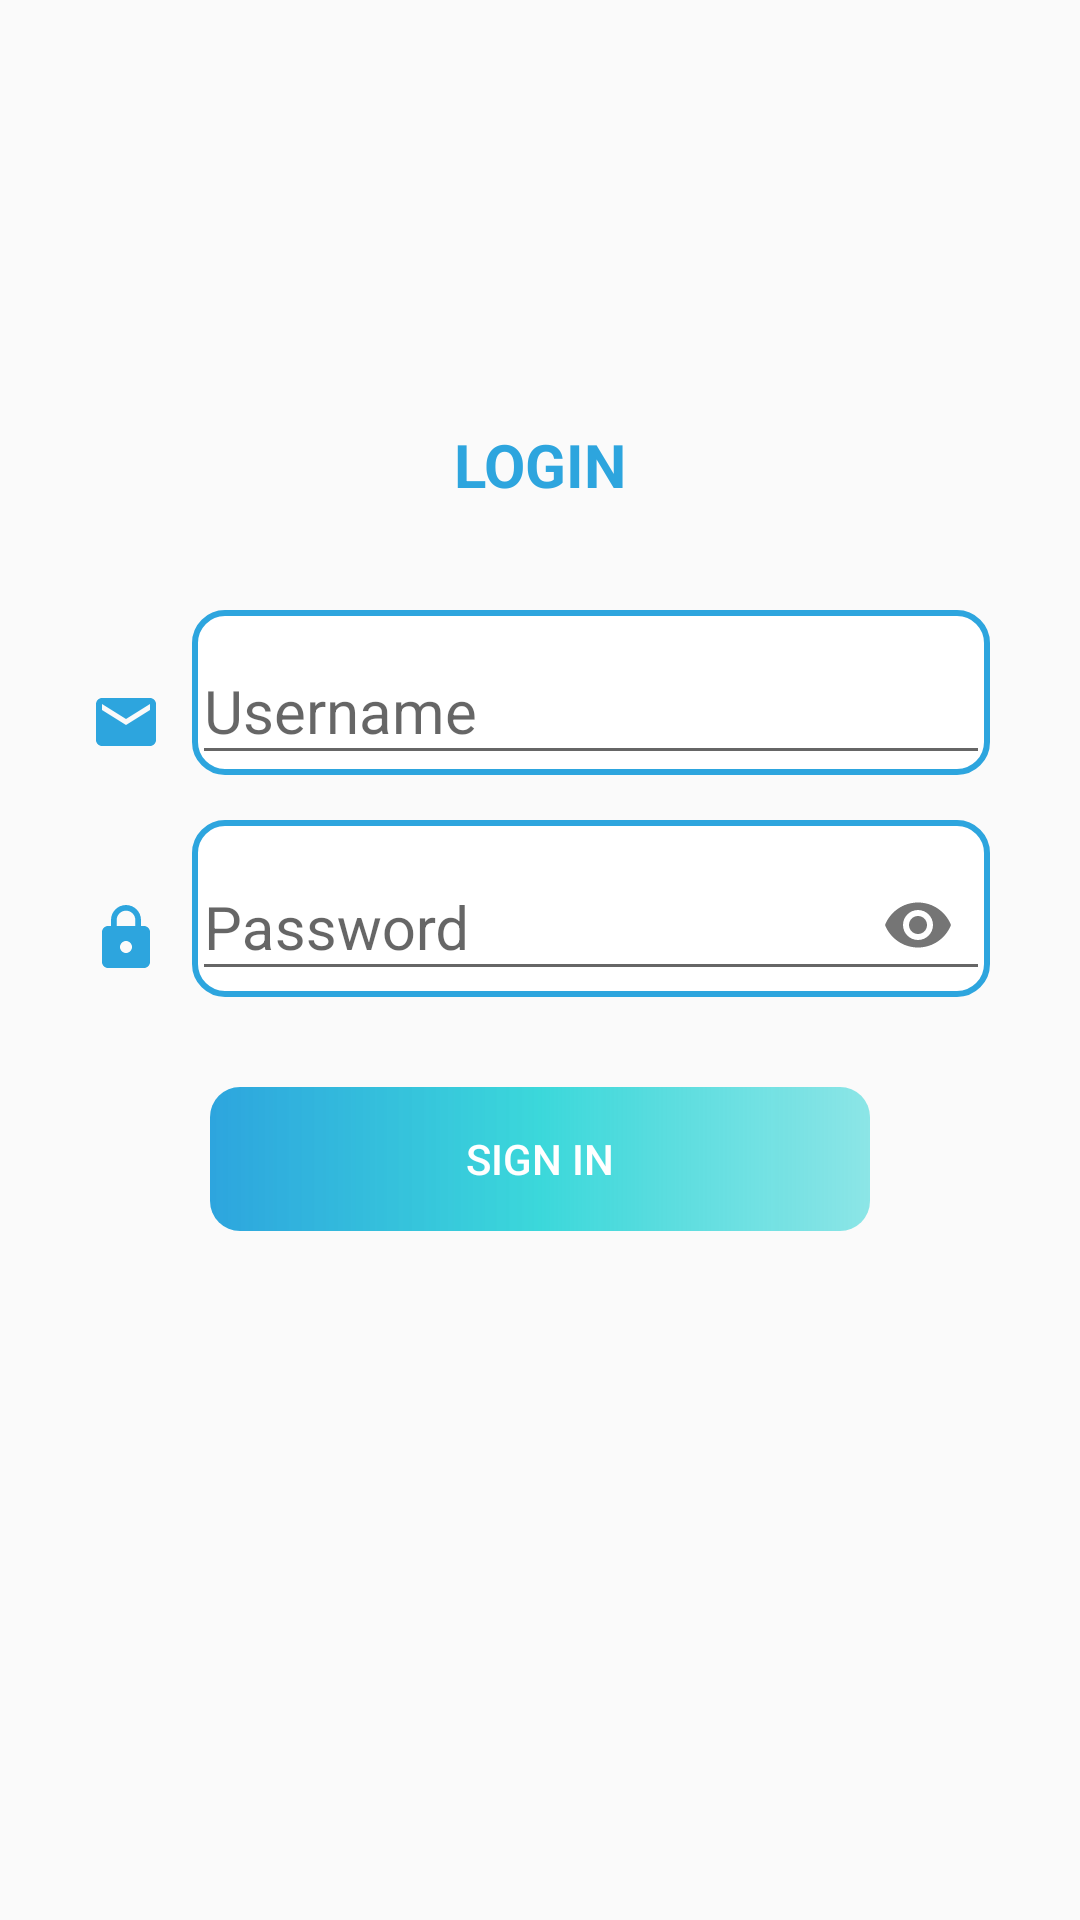

Icons on this 1080w x 1920h Android screen, each with the point to tap as [x,y]:
email: [126,722]
lock: [126,936]
